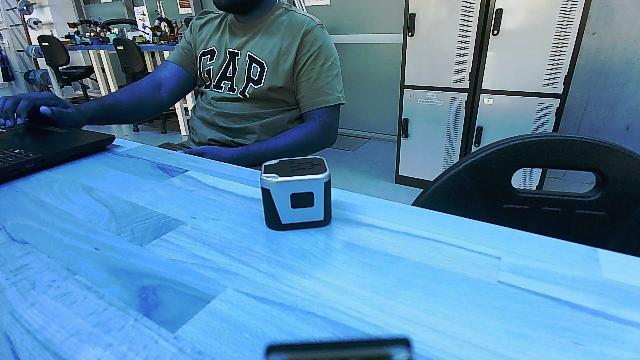adapter: (256, 150, 334, 236)
